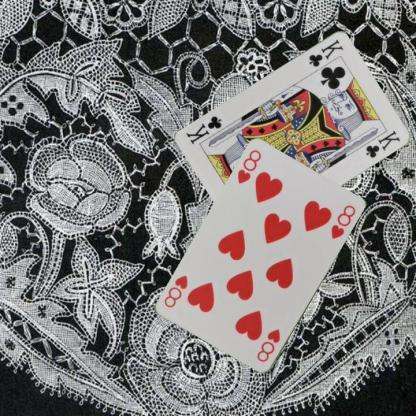8h: (234, 148, 263, 186), (254, 326, 282, 364)
Kc: (307, 36, 344, 68)
